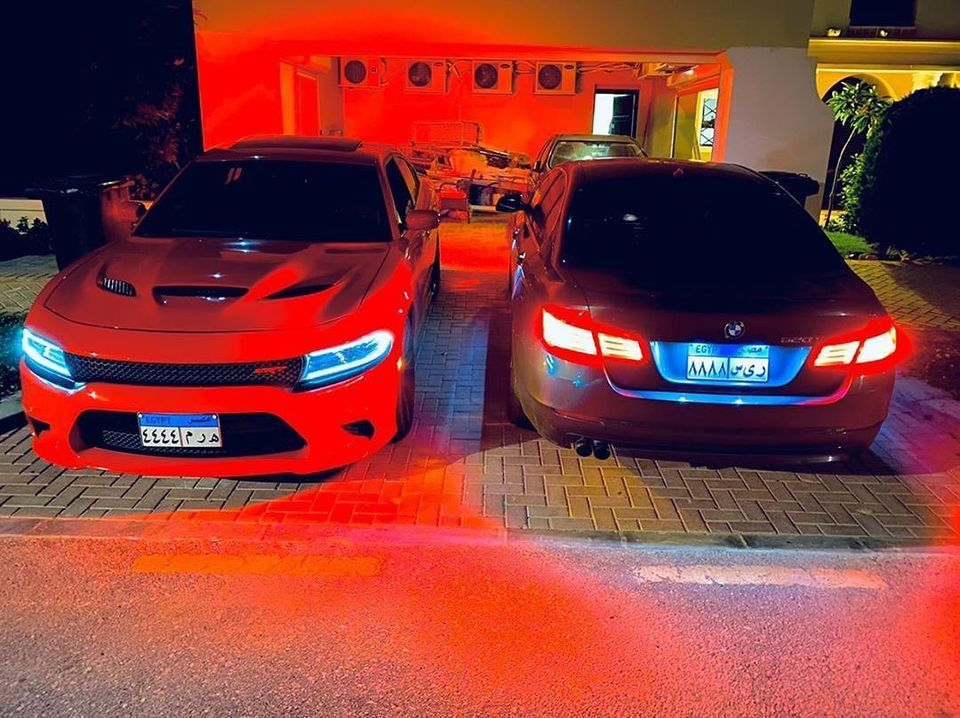carpl: (686, 356, 772, 383), (140, 424, 221, 446)
